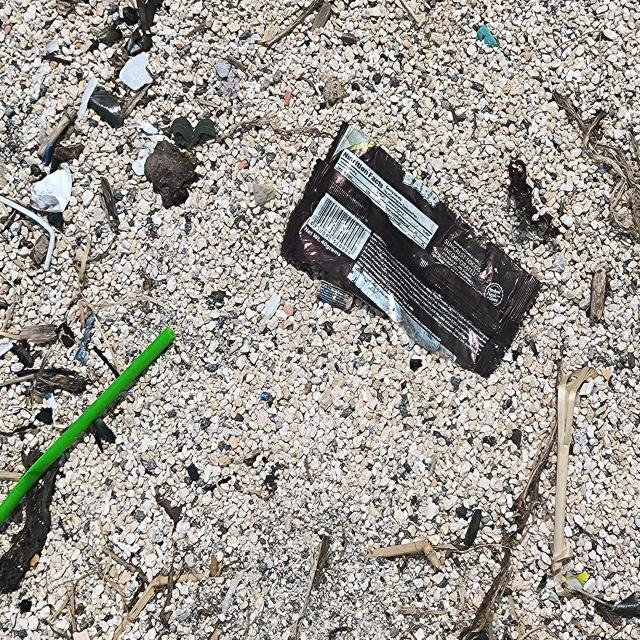litter: (284, 119, 546, 377), (0, 329, 174, 534)
